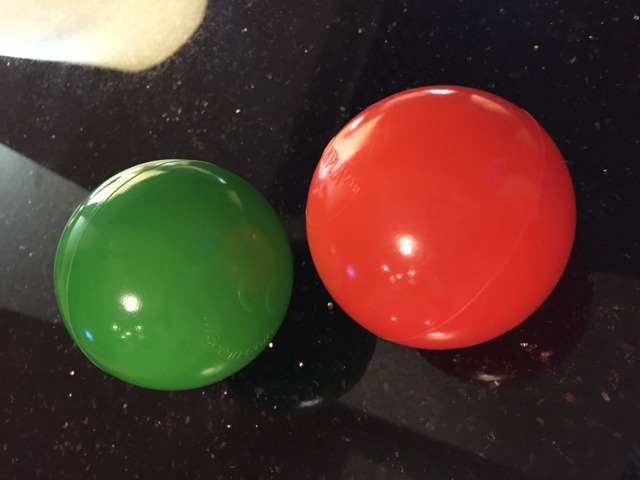Ball: (306, 82, 577, 348)
